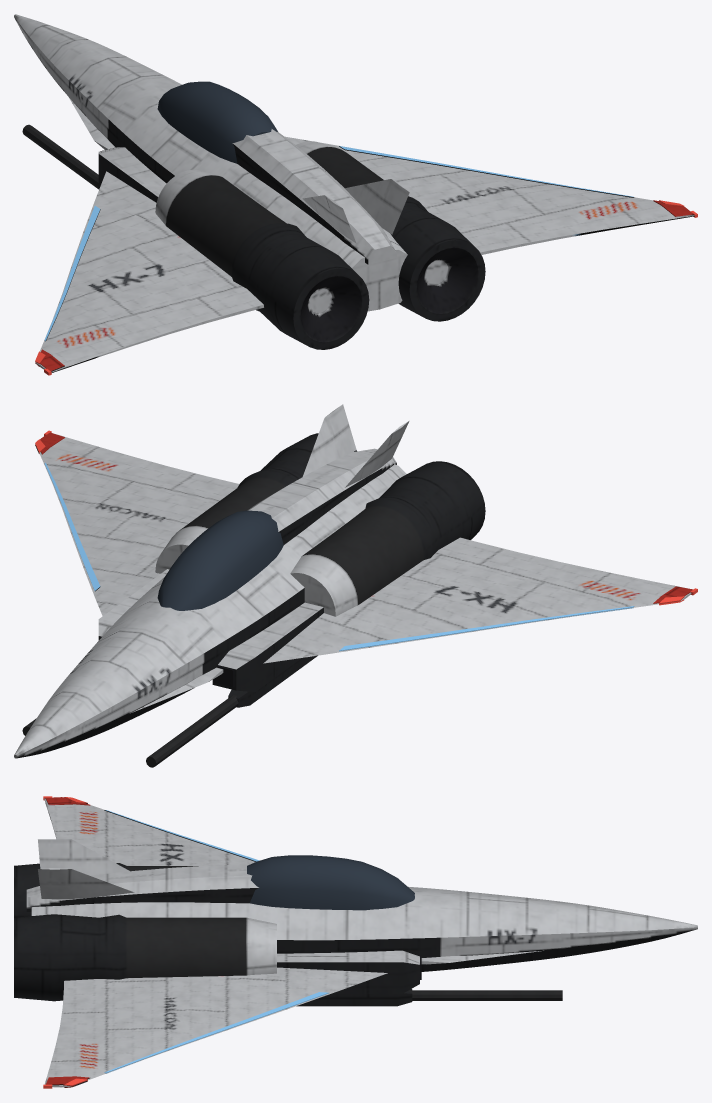
Rendered from NaveLOD.fbx.
3 views of the same model, one above another, from view 1: azimuth 30°, elevation 25°; view 2: azimuth 150°, elevation 25°; view 3: azimuth 270°, elevation 25° (orthographic). The views are drawn at different scales.
Parts seen in each view (by area): view 1: NaveLOD; view 2: NaveLOD; view 3: NaveLOD.
Part boxes in pixels (bbox=[...]): NaveLOD: bbox=[14, 14, 697, 375]; NaveLOD: bbox=[14, 404, 697, 767]; NaveLOD: bbox=[14, 796, 697, 1088].
Size of the model in its own units: 2736 by 534 by 2730.
